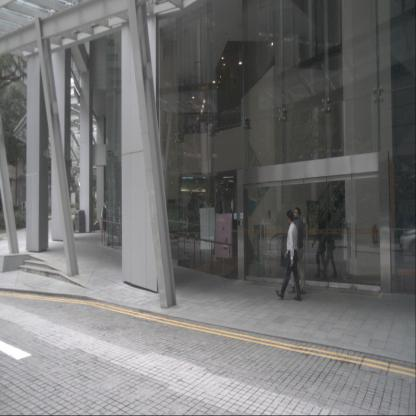human-pedestrian-adult: (274, 207, 302, 301), (286, 207, 306, 295), (100, 201, 108, 233)
vehicle-car: (399, 226, 416, 258)
